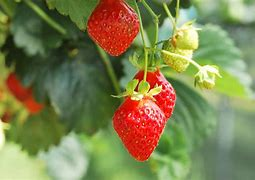Fresa: (113, 91, 168, 162), (88, 1, 140, 56), (125, 66, 176, 120)
